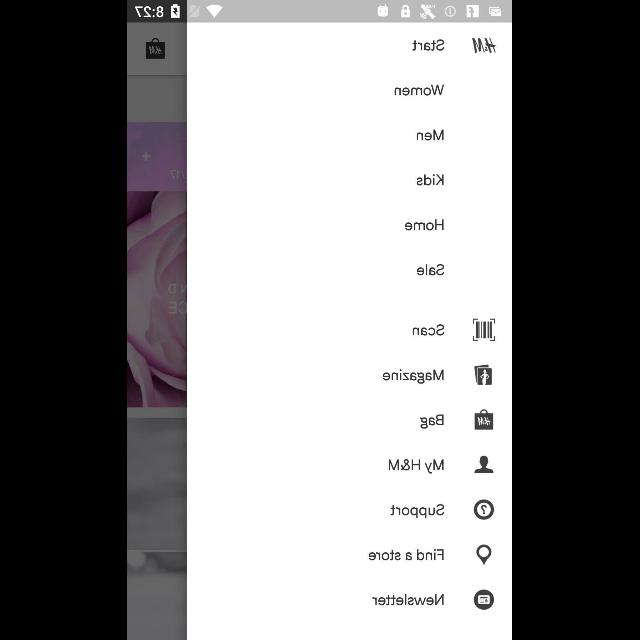icon: (474, 590, 496, 610), (474, 500, 496, 520), (476, 544, 492, 566), (474, 456, 494, 472)
image: (474, 319, 496, 341), (474, 410, 494, 430), (475, 364, 493, 386), (473, 38, 497, 54)
panel: (188, 22, 512, 640)
text: (389, 458, 445, 474), (370, 549, 444, 561), (373, 594, 445, 606), (384, 370, 444, 384), (391, 504, 445, 518), (395, 84, 445, 96), (406, 219, 444, 231), (413, 324, 445, 336), (413, 39, 445, 51), (421, 415, 445, 429), (417, 264, 445, 276), (418, 174, 444, 186), (418, 129, 444, 141)
uppertaskbar: (128, 1, 512, 23)
